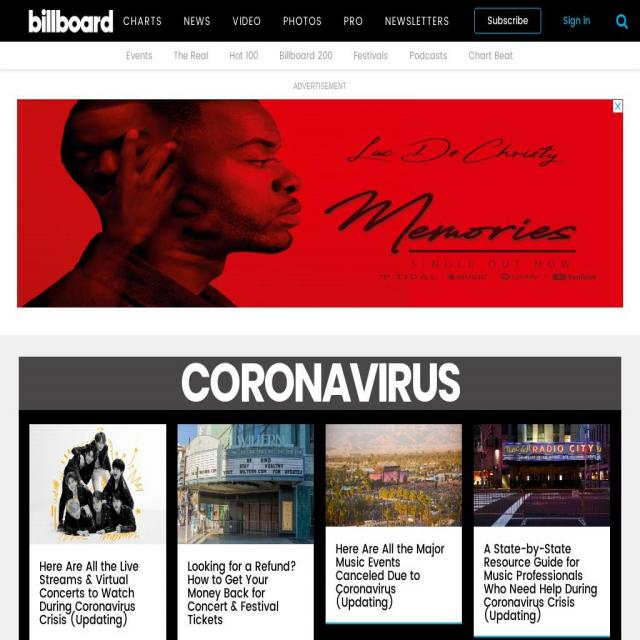login-option: (558, 5, 594, 37)
navigation-blocks: (16, 356, 632, 640)
navigation-links: (121, 8, 539, 70)
search: (610, 7, 638, 40)
